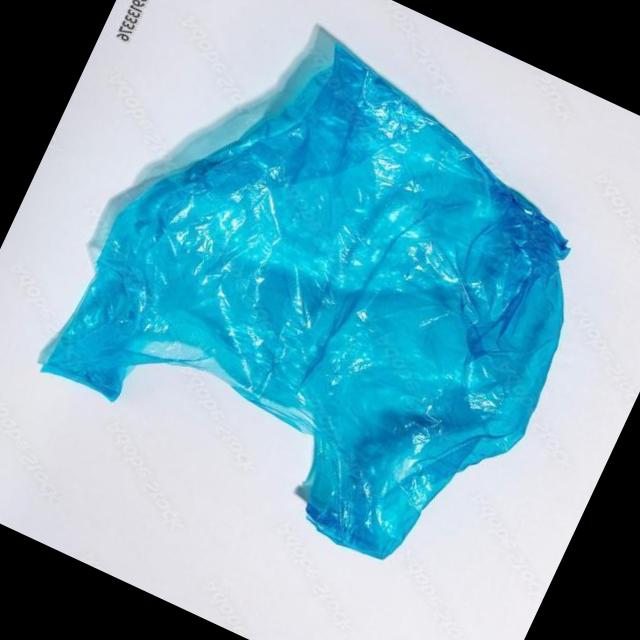KantongPlastik: (14, 0, 640, 600)
